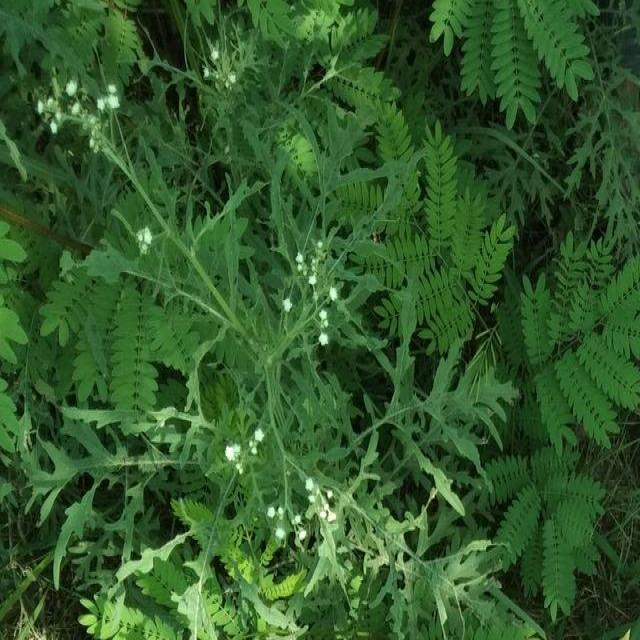weed: (44, 85, 478, 623)
